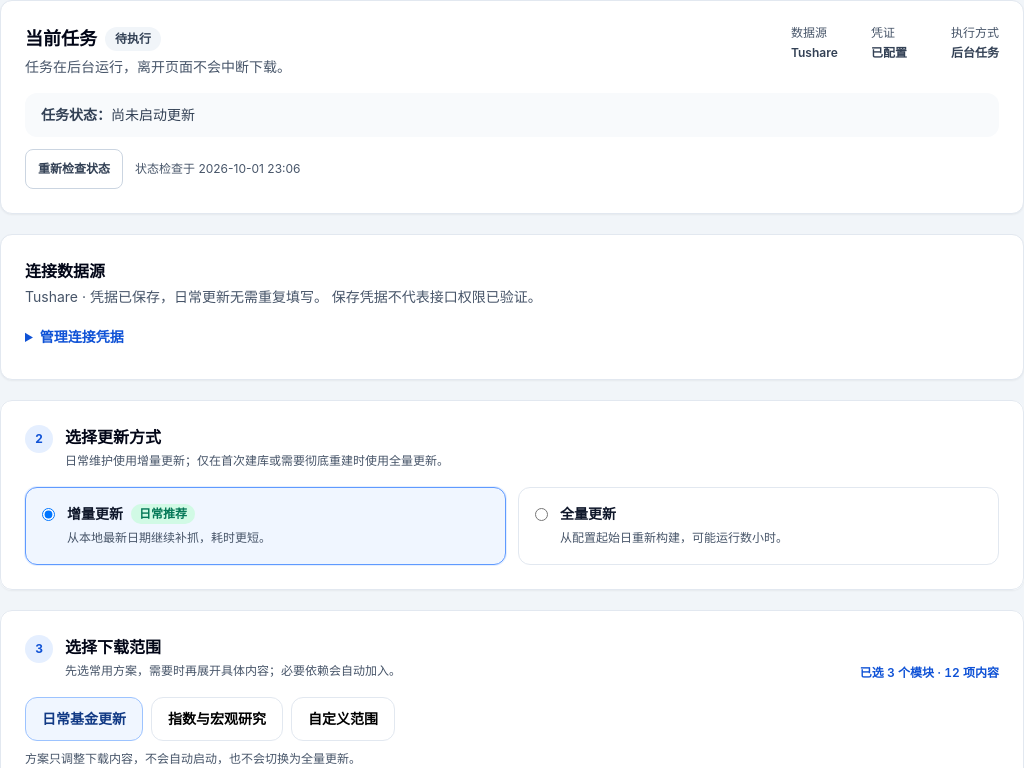
Test case: 数据同步用户流程 › 状态失联不能按旧状态启动，重新检查成功后解锁
The width and height of the screenshot is (1024, 768).
Click the button "重新检查状态" at (74, 169), box [25,149,123,189]
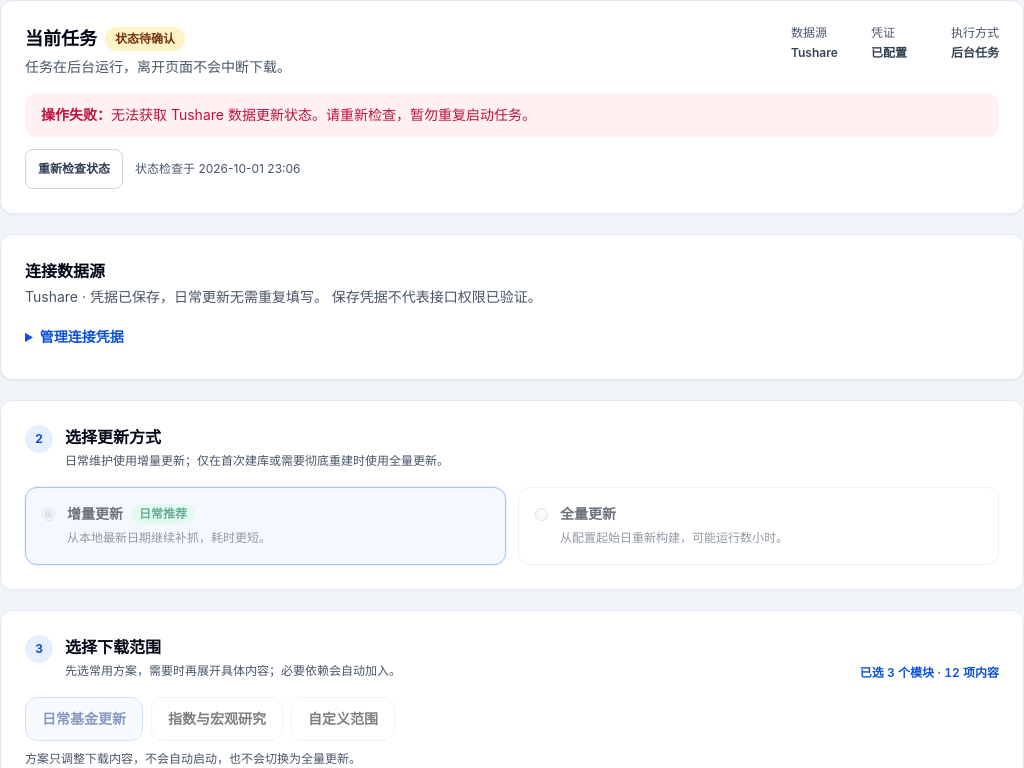
Expected: the message shows "无法获取 Tushare 数据更新状态", [111,106,536,123]
Click the button "重新检查状态" at (74, 169), box [25,149,123,189]
(page scrolled)
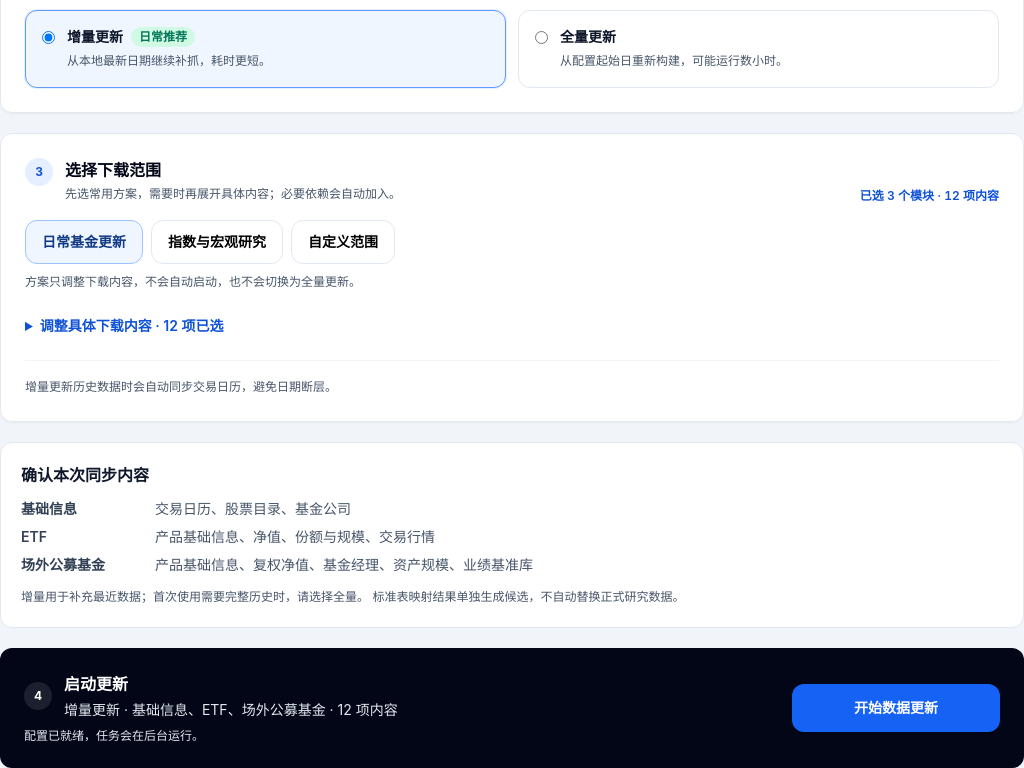
Expected: the button "开始数据更新" is enabled, [792,684,1000,732]
